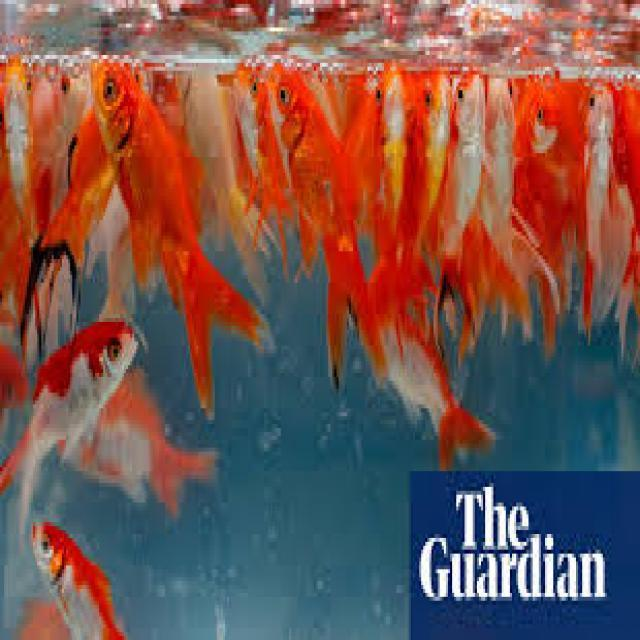goldfish: (93, 67, 284, 449)
